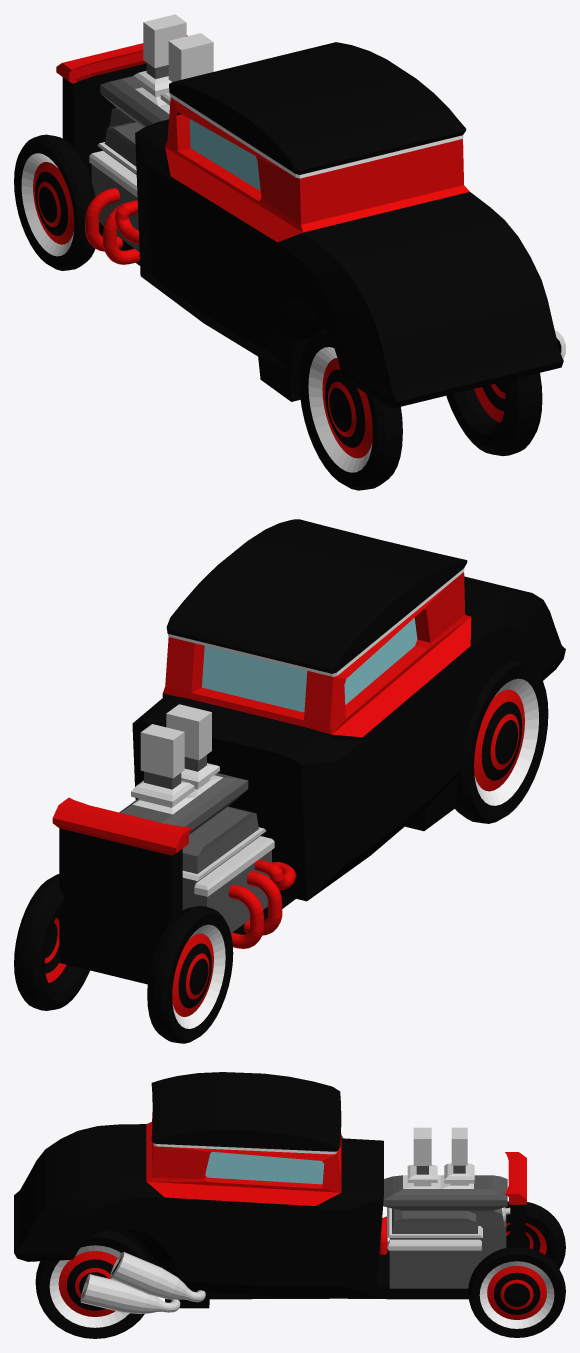
File: HotRod.fbx
The picture shows the model from 3 angles, top to bottom: view 1: azimuth 30°, elevation 25°; view 2: azimuth 150°, elevation 25°; view 3: azimuth 270°, elevation 25°; orthographic projection. The views are drawn at different scales.
Visible parts, largest first — view 1: carro, Torus.002, motor, canos; view 2: carro, Torus.002, motor, canos; view 3: carro, Torus.002, motor, canos.001.
Boxes of the visible parts, x1=… form: carro: x1=56, y1=35, x2=563, y2=408; Torus.002: x1=14, y1=134, x2=542, y2=490; motor: x1=89, y1=14, x2=213, y2=251; canos: x1=85, y1=188, x2=139, y2=264; carro: x1=52, y1=519, x2=565, y2=984; Torus.002: x1=14, y1=661, x2=548, y2=1043; motor: x1=119, y1=704, x2=274, y2=933; canos: x1=228, y1=860, x2=295, y2=948; carro: x1=14, y1=1072, x2=526, y2=1308; Torus.002: x1=35, y1=1201, x2=565, y2=1338; motor: x1=383, y1=1127, x2=510, y2=1288; canos.001: x1=80, y1=1252, x2=205, y2=1314.
Bounding box in the file's own units: 209 × 608 × 260.
